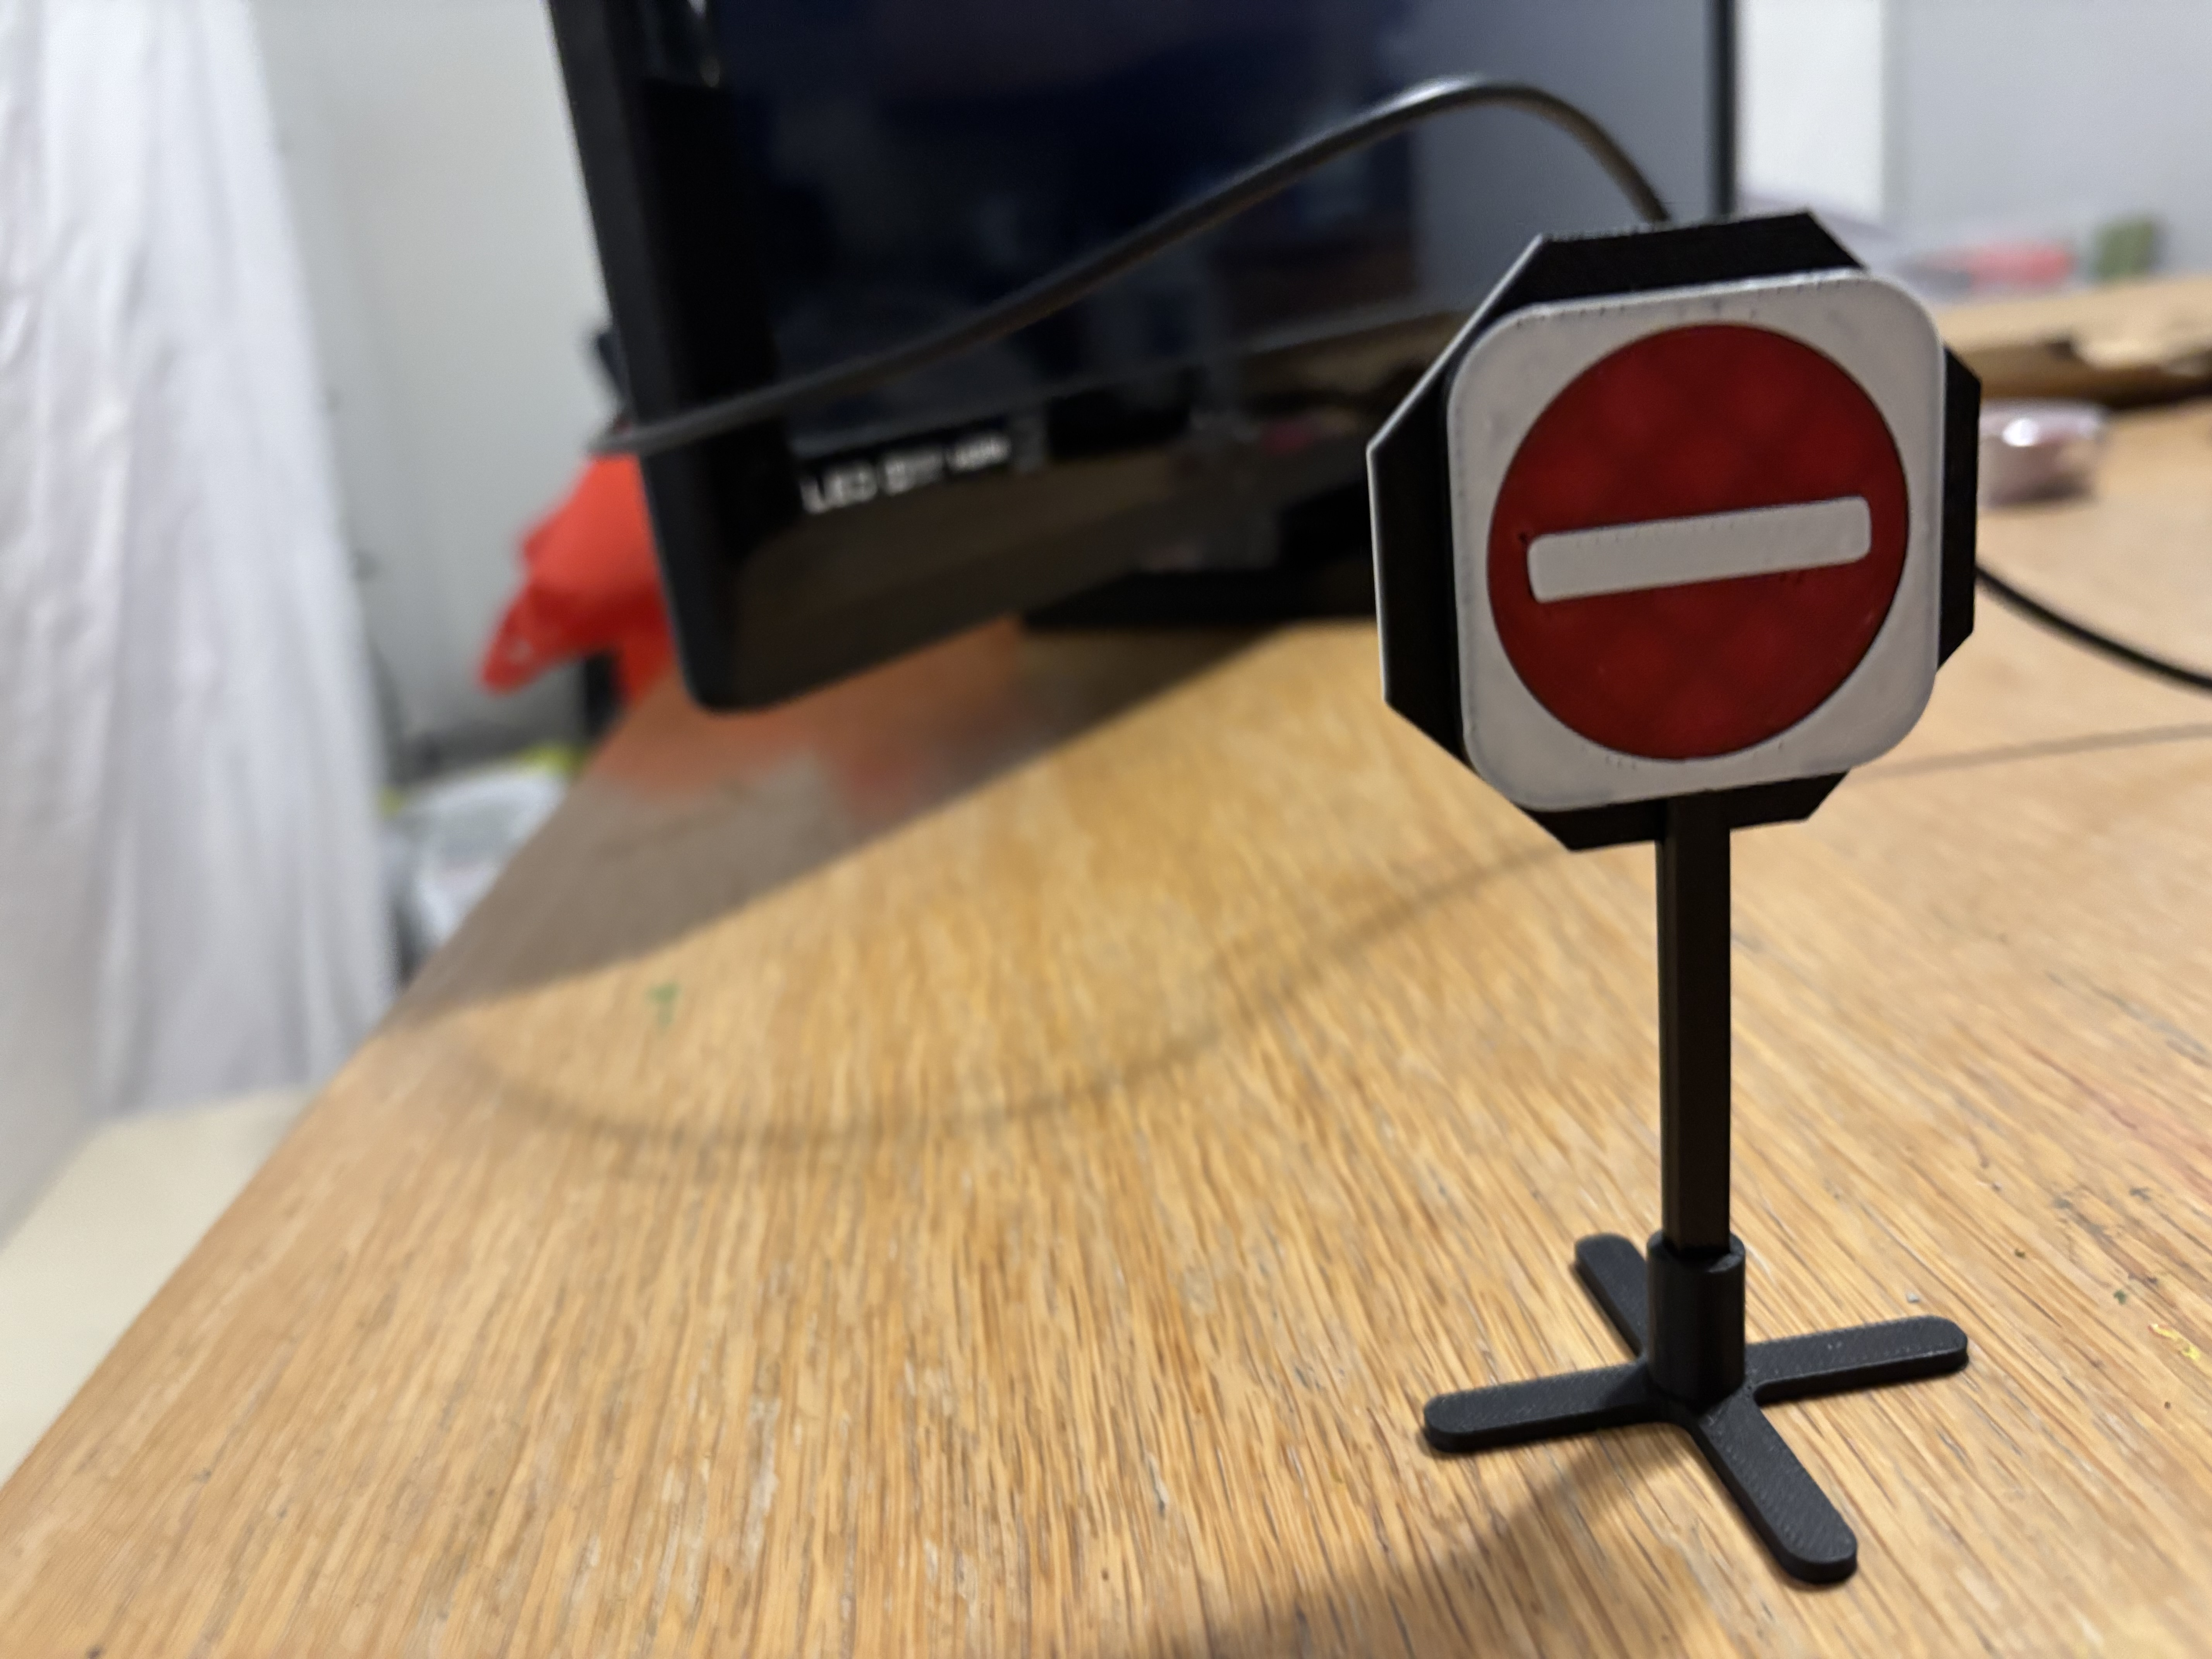sign_noentry: (1428, 270, 1961, 807)
